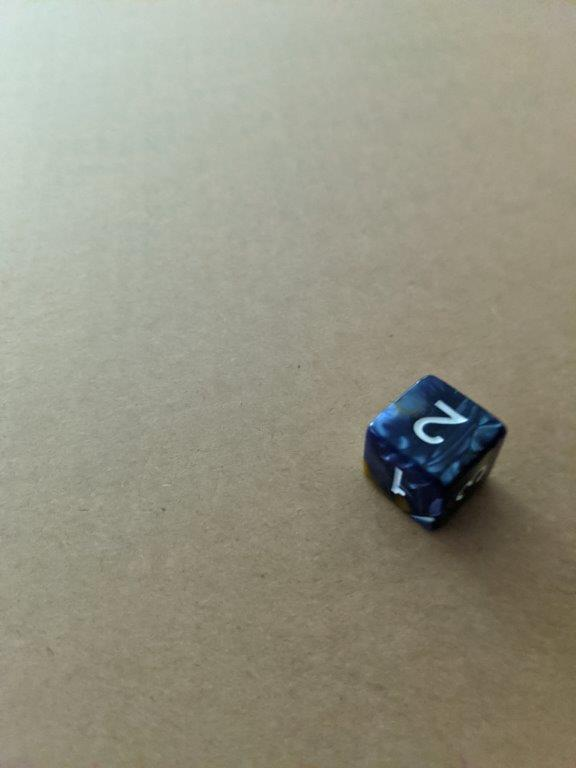d6-2: (361, 376, 508, 530)
